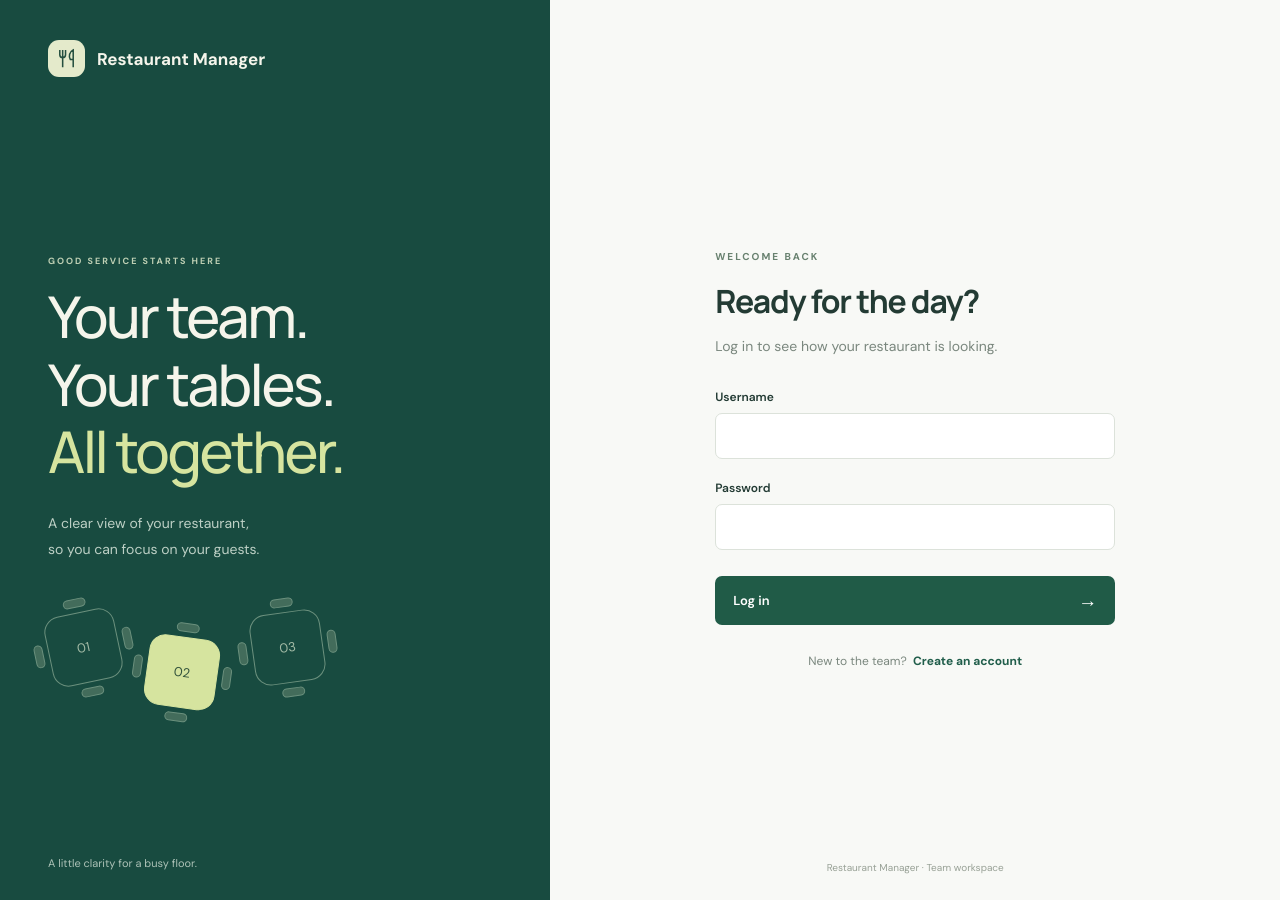
Scenario: sprint pages › registers an account and sends the user back to login
Click the link "Create an account". click: (968, 661)
box: [913, 653, 1022, 669]
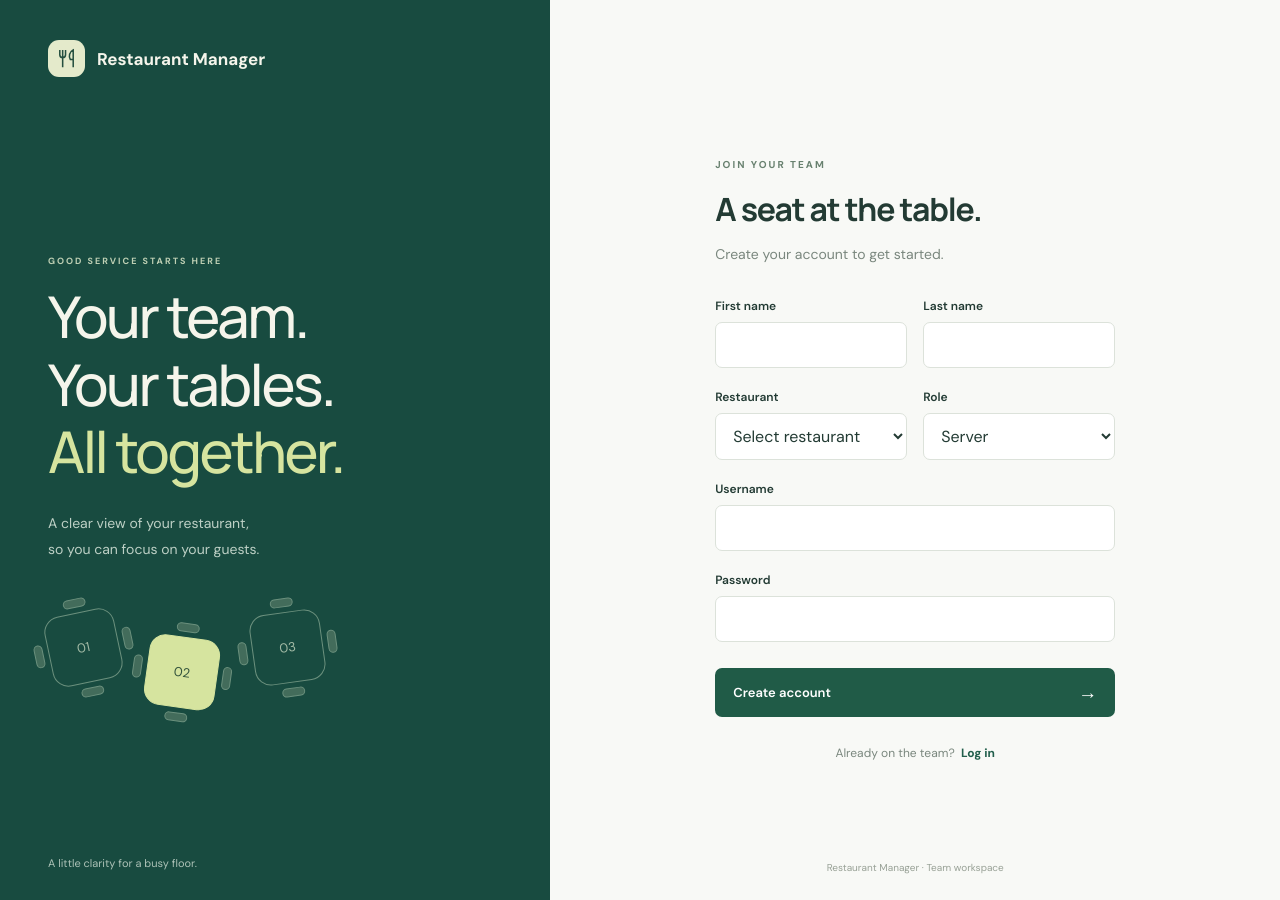
Type "Alex" into the field labelled "First name". click: (811, 344)
box: [715, 322, 907, 368]
Type "Chen" into the field labelled "Last name". click: (1019, 344)
box: [923, 322, 1115, 368]
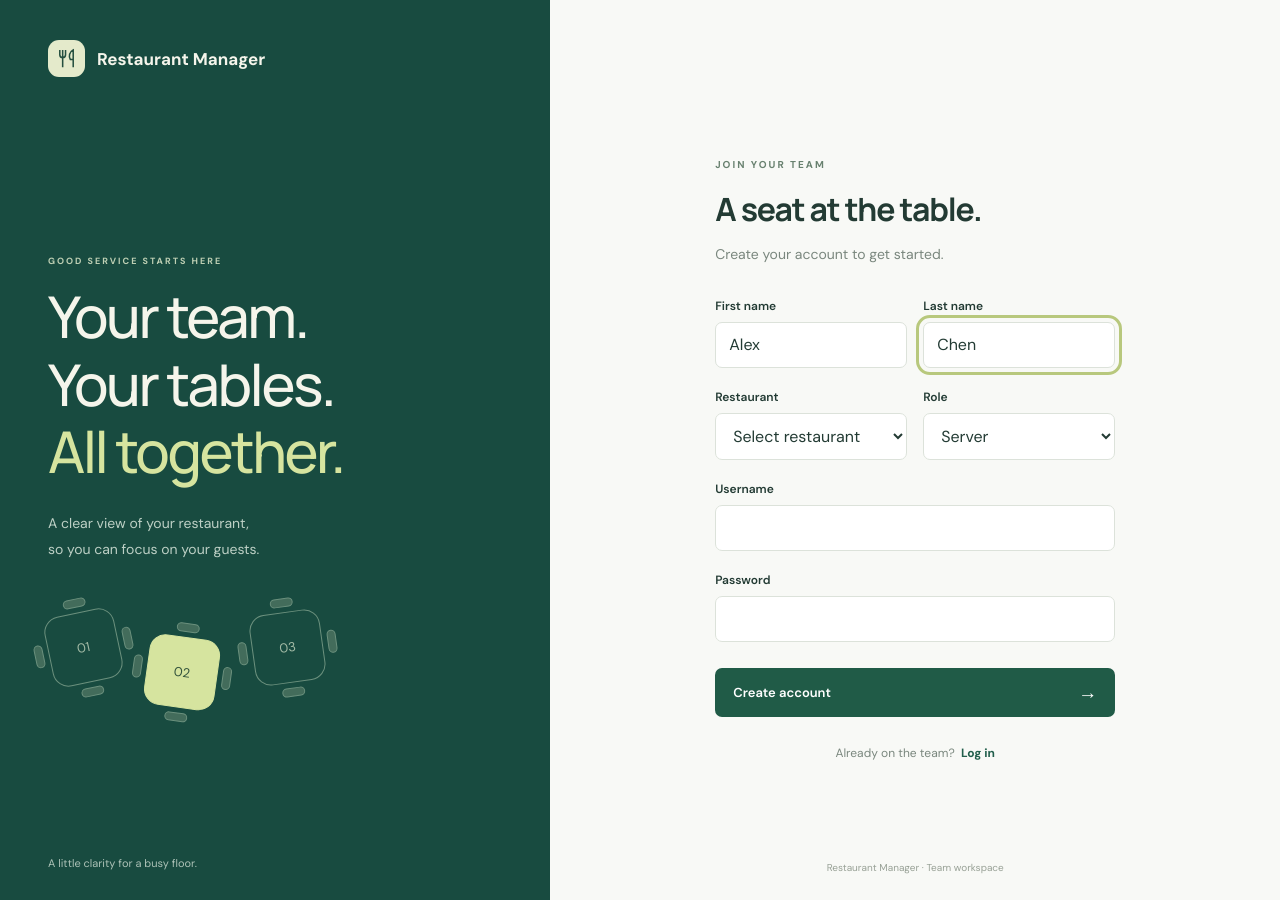
Select "The Rustic Spoon" in the dropdown labelled "Restaurant". click: (811, 436)
box: [715, 412, 907, 460]
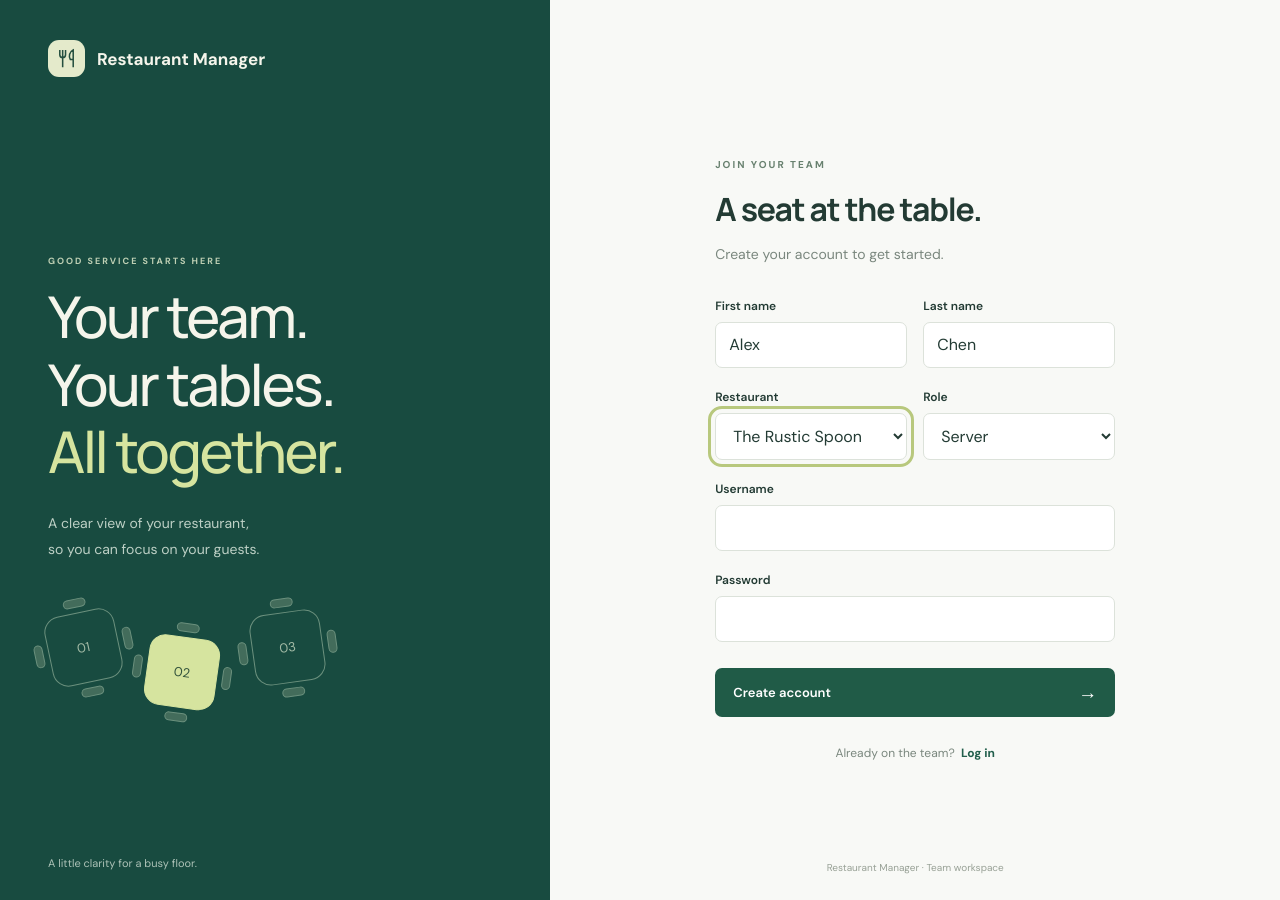
Type "alex" into the field labelled "Username". click: (915, 528)
box: [715, 504, 1115, 550]
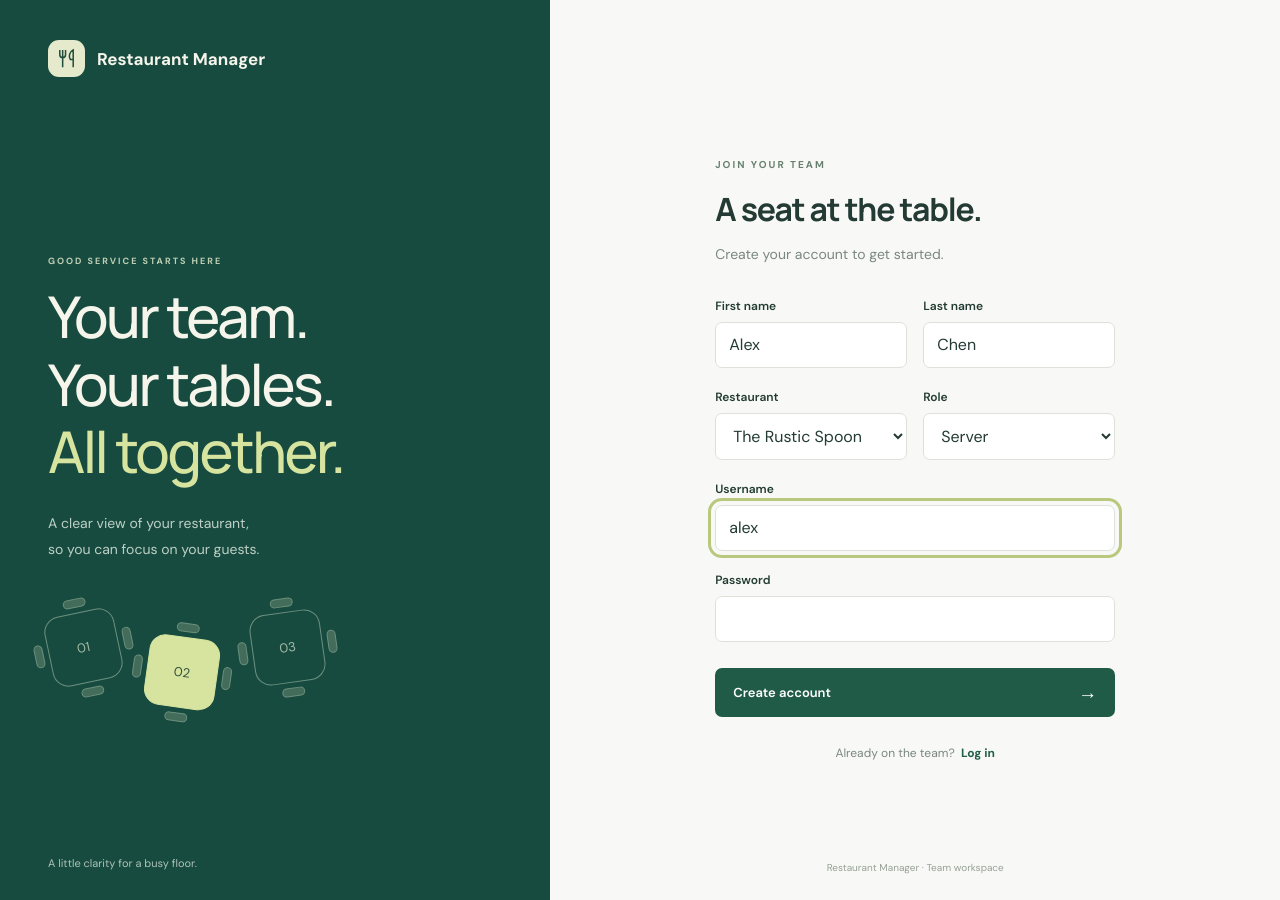
Type "simple" into the password field labelled "Password". click: (915, 618)
box: [715, 596, 1115, 642]
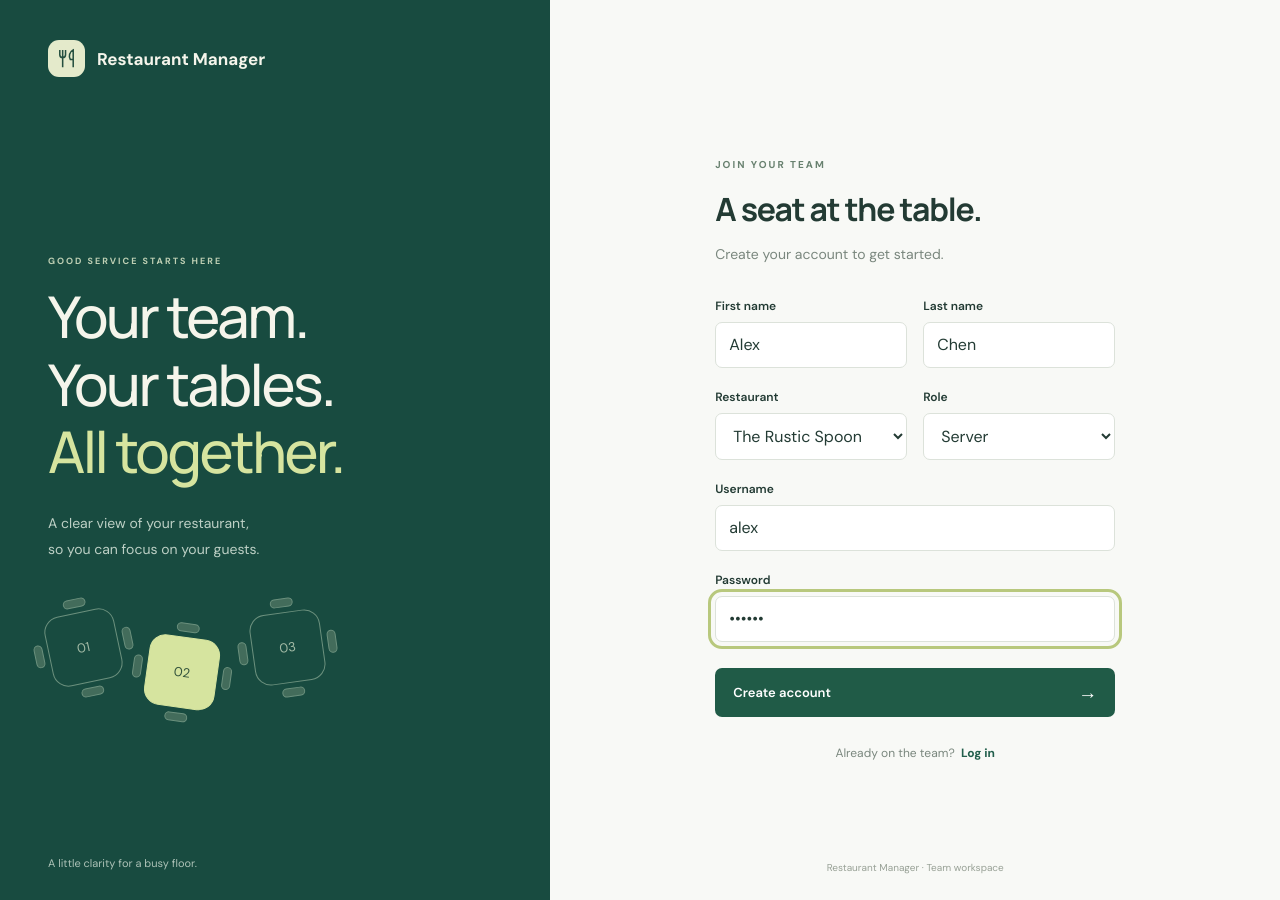
Click the button "Create account →". click: (782, 692)
box: [715, 668, 1115, 716]
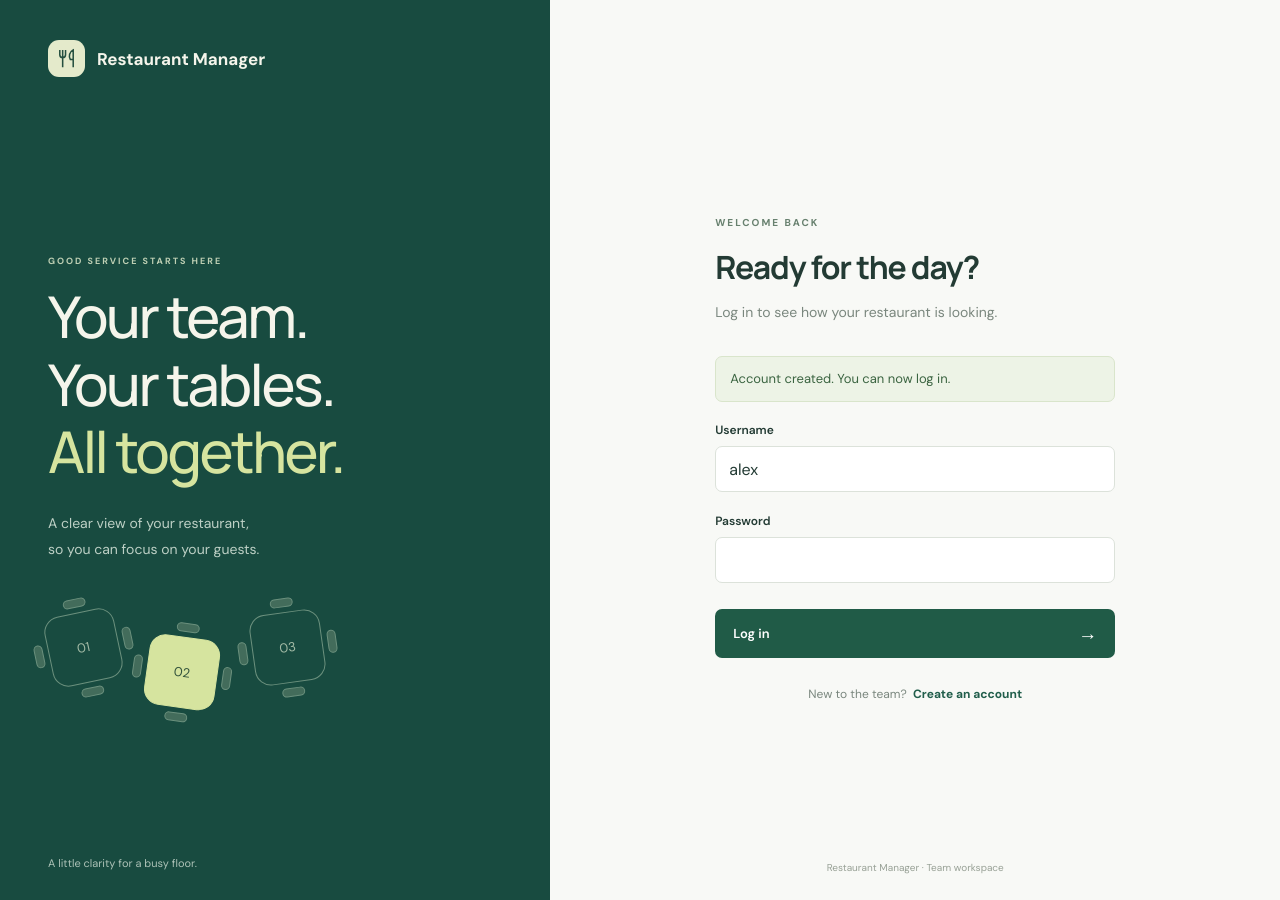
Now the field labelled "Username" holds "alex", box [715, 446, 1115, 492]
Now the heading "Ready for the day?" is shown, box [715, 245, 979, 289]
Now the message shows "Account created", box [730, 370, 950, 387]
